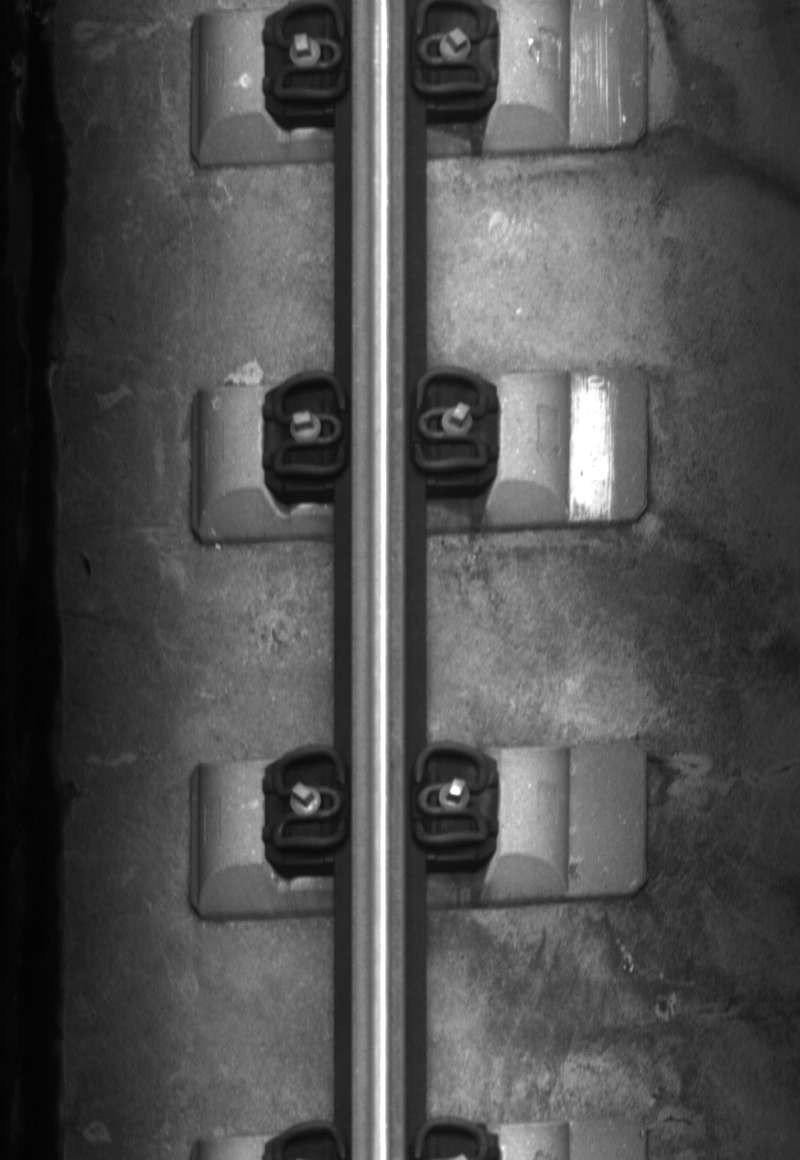l_faster: (267, 368, 351, 479), (267, 741, 350, 853)
r_faster: (408, 736, 492, 853), (410, 365, 493, 477)
